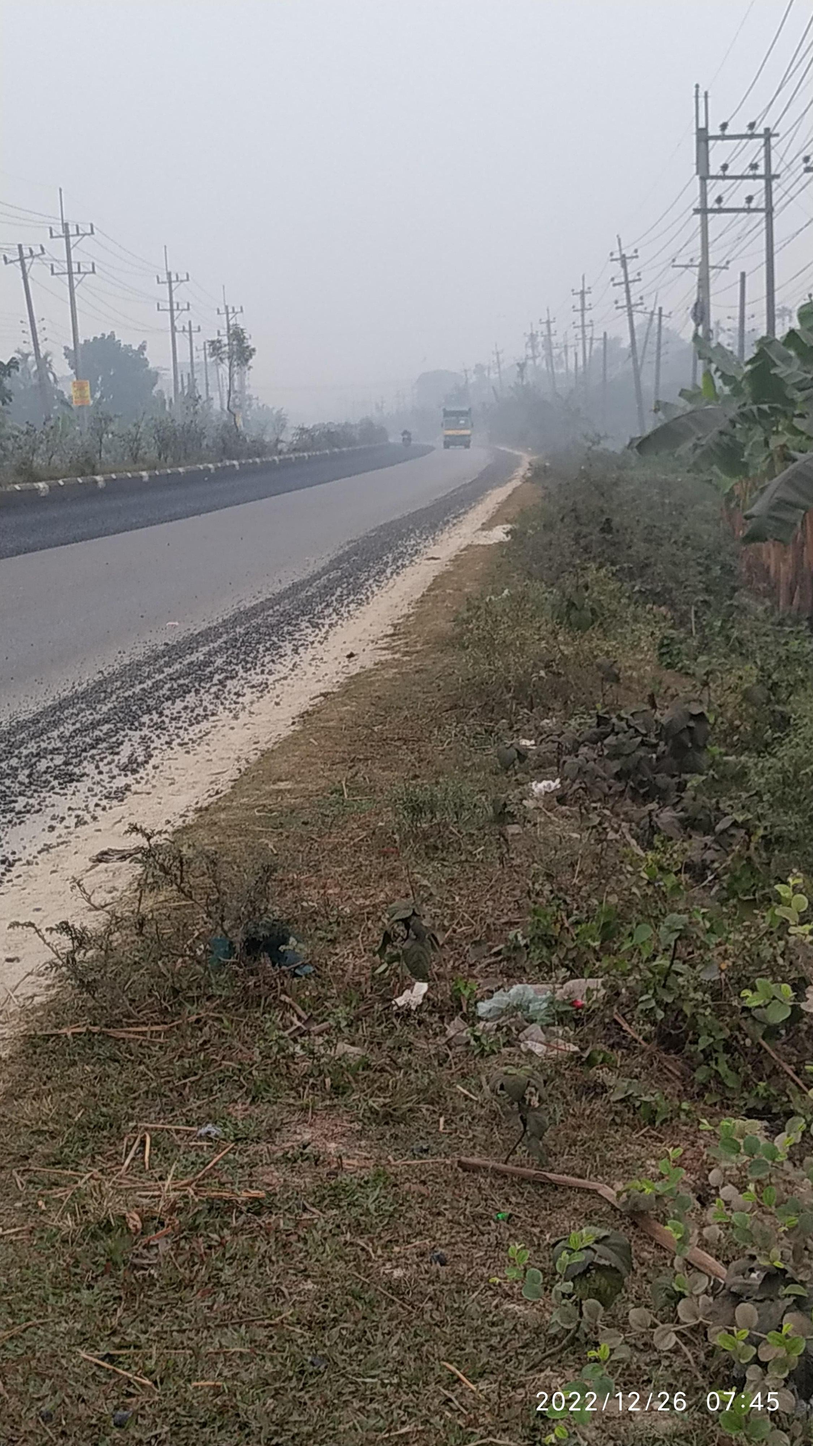Truck: (434, 398, 480, 459)
